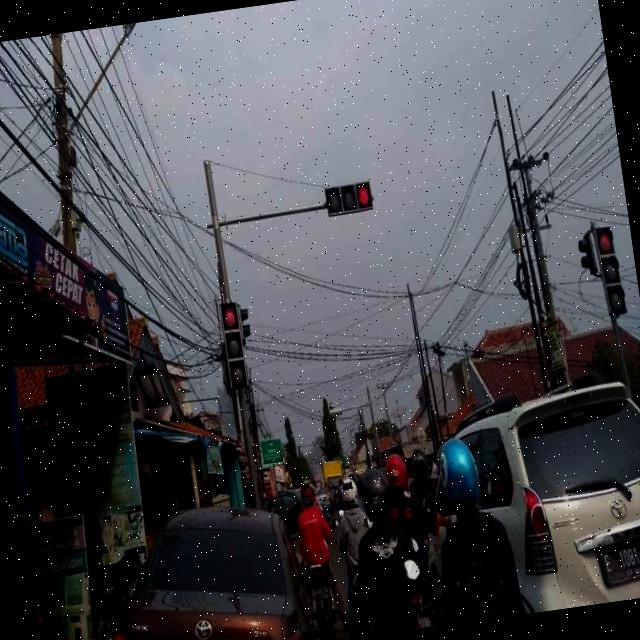Czerwone swiatlo: (594, 223, 628, 317), (218, 302, 249, 392), (322, 182, 374, 220)
